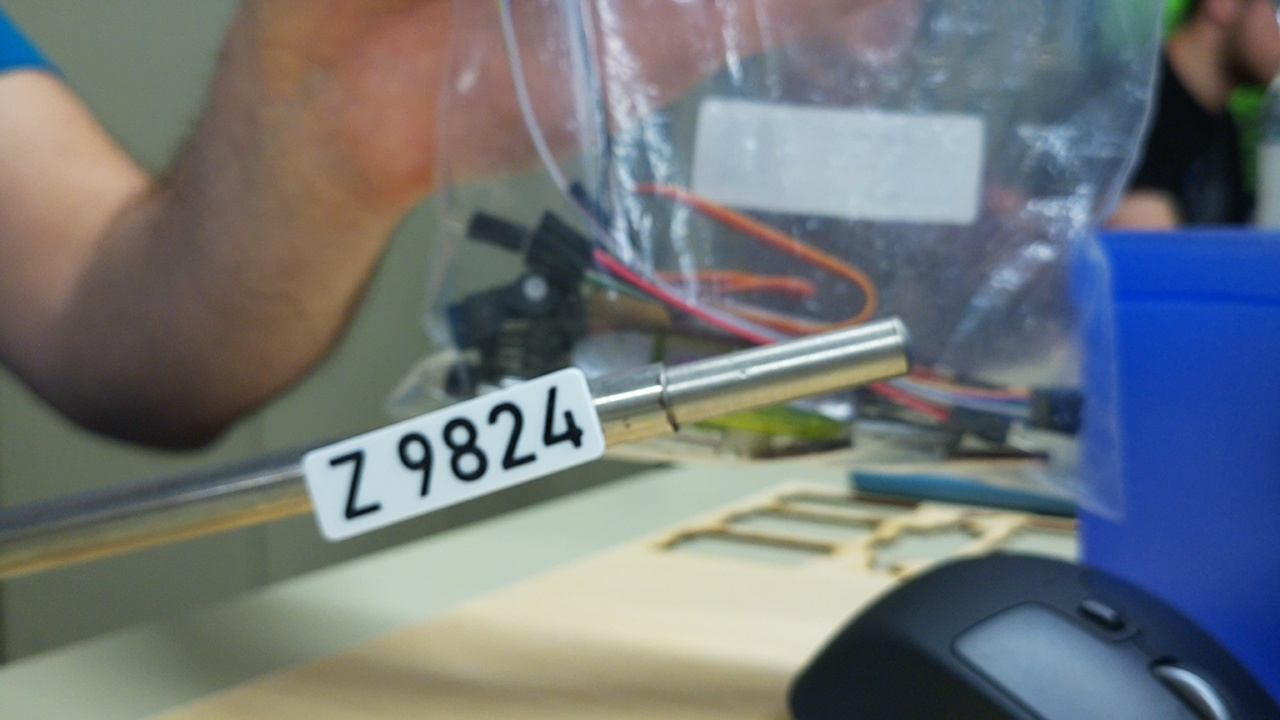license_plate: (300, 363, 609, 546)
